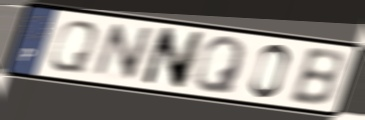0: (249, 42, 291, 100)
B: (286, 47, 346, 109)
N: (138, 25, 208, 92), (88, 22, 157, 83)
Q: (191, 35, 249, 96), (45, 19, 102, 75)
